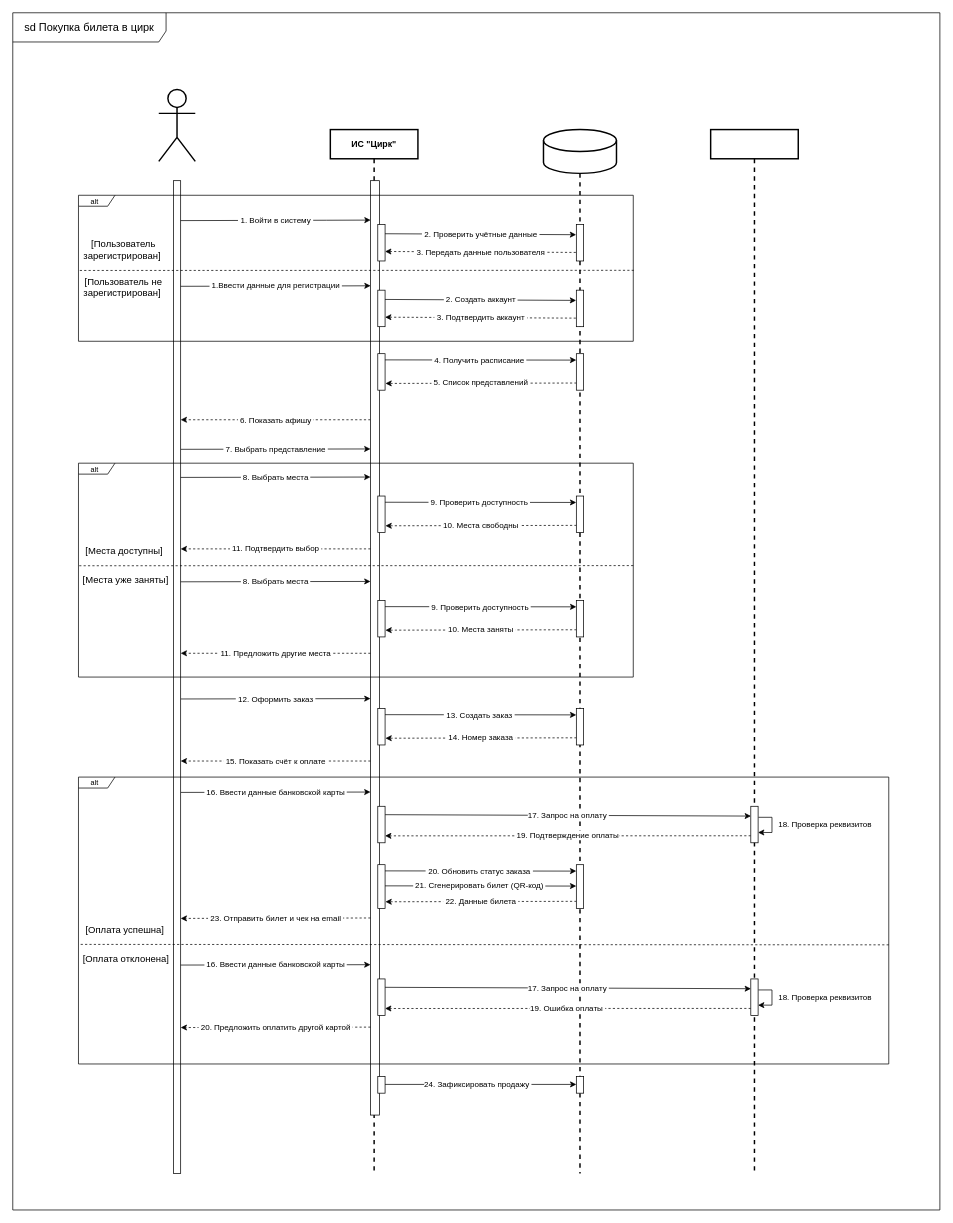
Some shapes in this 953 by 1223 pixel diagram are drawn without their labels. Here are the shapes that lost their labels. From the top down, the box of each, then its label:
(158, 88, 196, 162): ПОКУПАТЕЛЬ
(542, 128, 617, 174): База данных
(710, 128, 799, 1174): Платёжная система
